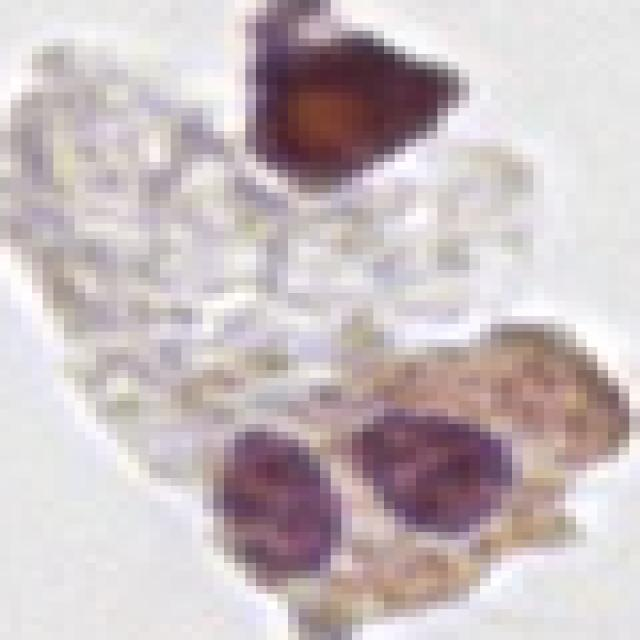nucleus: (345, 367, 530, 557), (209, 418, 352, 583)
